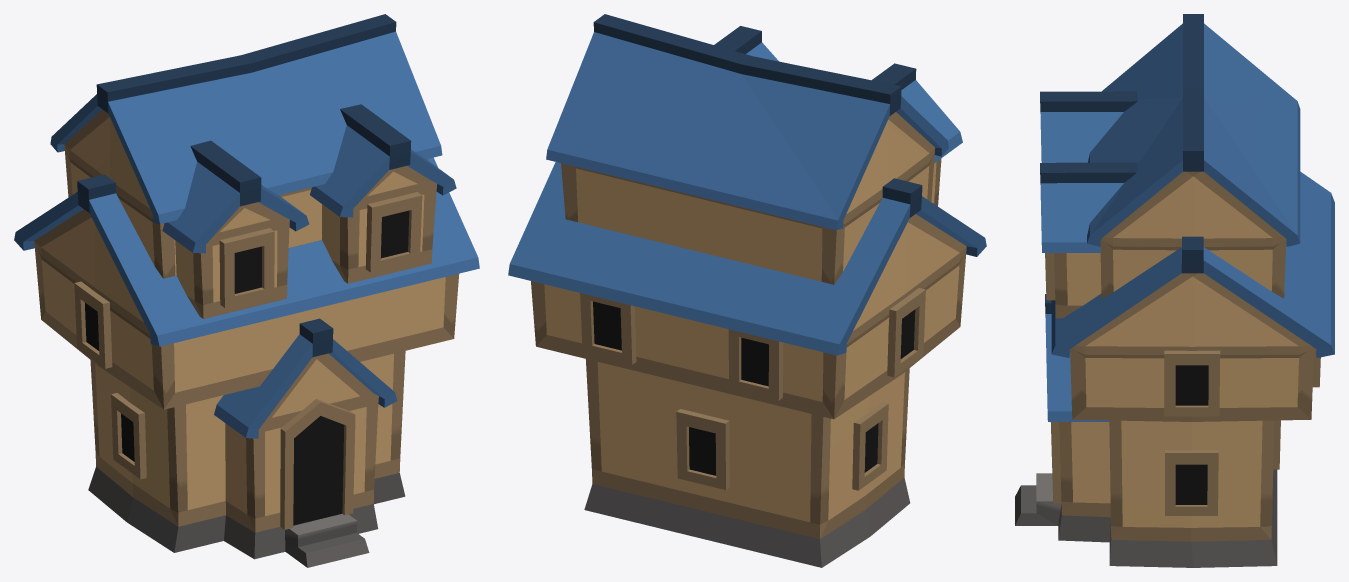
Rendered from House_Tiny2.fbx.
The picture shows the model from 3 angles, left to right: view 1: azimuth 30°, elevation 25°; view 2: azimuth 150°, elevation 25°; view 3: azimuth 270°, elevation 25°; orthographic projection. The views are drawn at different scales.
Visible parts, largest first — view 1: SM_Bld_Knights_House_03; view 2: SM_Bld_Knights_House_03; view 3: SM_Bld_Knights_House_03.
Boxes of the visible parts, <box> form: SM_Bld_Knights_House_03: <box>14,14,479,567</box>; SM_Bld_Knights_House_03: <box>508,14,986,567</box>; SM_Bld_Knights_House_03: <box>1015,14,1334,567</box>.
Size of the model in its own units: 127 by 162 by 110.
